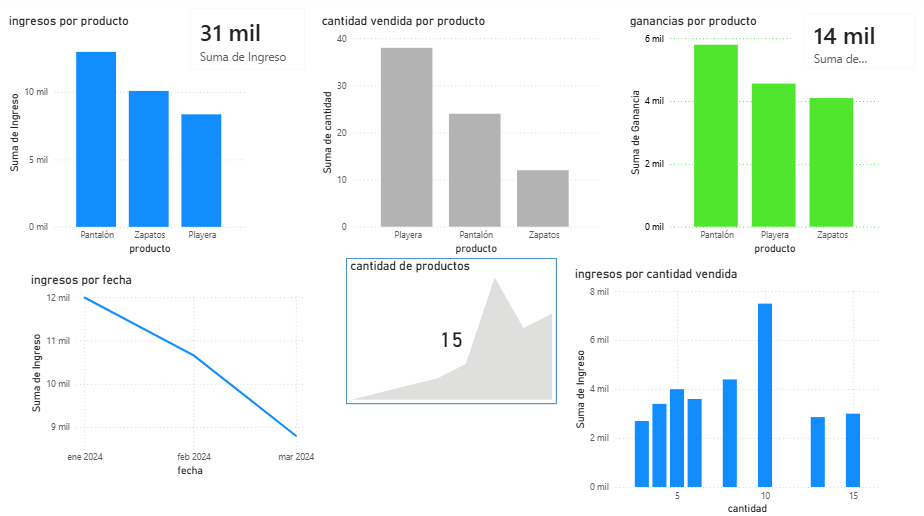

Layout of this report page (visuals, bound fields, positions):
{"tool":"powerbi","page":{"name":"Página 1","canvas":[1280,720],"ordinal":0},"visuals":[{"type":"columnChart","title":"ingresos por producto","fields":{"Category":["Tabla1.producto"],"Y":["Sum(Tabla1.Ingreso)"]},"box":[9.3,23.3,334.7,337.3],"z":0},{"type":"columnChart","title":"ganancias por producto","fields":{"Y":["Sum(Tabla1.Ganancia)"],"Category":["Tabla1.producto"]},"box":[864.3,22.9,352.9,337.1],"z":1000},{"type":"lineChart","title":"ingresos por fecha","fields":{"Y":["Sum(Tabla1.Ingreso)"],"Category":["Tabla1.fecha"]},"box":[40,380,400,286.2],"z":2000},{"type":"columnChart","title":"ingresos por cantidad vendida","fields":{"Category":["Tabla1.cantidad"],"Y":["Sum(Tabla1.Ingreso)"]},"box":[788.6,371.4,428.6,347.1],"z":3000},{"type":"columnChart","title":"cantidad vendida por producto","fields":{"Y":["Sum(Tabla1.cantidad)"],"Category":["Tabla1.producto"]},"box":[440,22.9,391.4,337.1],"z":4000},{"type":"cardVisual","fields":{"Data":["Sum(Tabla1.Ingreso)"]},"box":[247.7,0,192.7,118.4],"z":5000},{"type":"cardVisual","fields":{"Data":["Sum(Tabla1.Ganancia)"]},"box":[1093.1,6.9,186.9,111.5],"z":6000},{"type":"kpi","title":"cantidad de productos","fields":{"Indicator":["Sum(ventas.cantidad)"],"TrendLine":["ventas.cantidad"]},"box":[478.6,360,290,201.4],"z":6001}]}

Visuals, with their boxes in screenshot pixels (x1, y1, x2, y2), scaled from the page's 1280x720 canvas onto the 924x516 screenshot:
"ingresos por producto" columnChart: {"left": 7, "top": 17, "right": 248, "bottom": 258}
"ganancias por producto" columnChart: {"left": 624, "top": 16, "right": 879, "bottom": 258}
"ingresos por fecha" lineChart: {"left": 29, "top": 272, "right": 318, "bottom": 477}
"ingresos por cantidad vendida" columnChart: {"left": 569, "top": 266, "right": 879, "bottom": 515}
"cantidad vendida por producto" columnChart: {"left": 318, "top": 16, "right": 600, "bottom": 258}
cardVisual - Sum(Tabla1.Ingreso): {"left": 179, "top": 0, "right": 318, "bottom": 85}
cardVisual - Sum(Tabla1.Ganancia): {"left": 789, "top": 5, "right": 923, "bottom": 85}
"cantidad de productos" kpi: {"left": 345, "top": 258, "right": 555, "bottom": 402}
